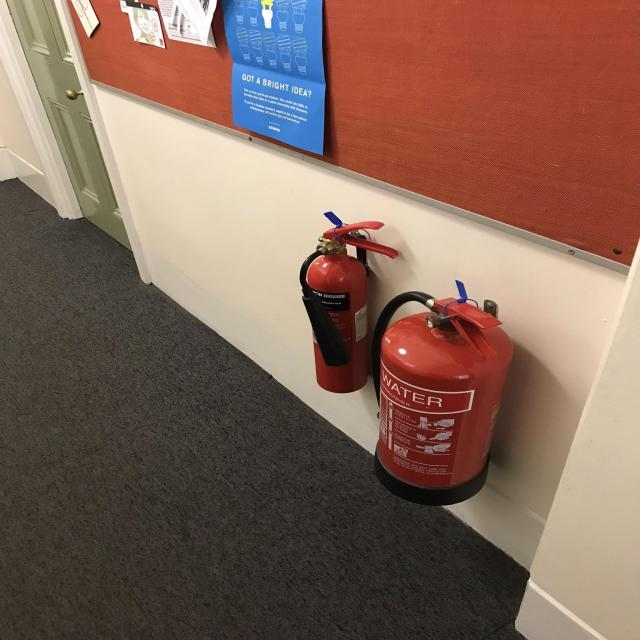fire_extinguisher: (368, 289, 518, 511), (288, 218, 399, 396)
